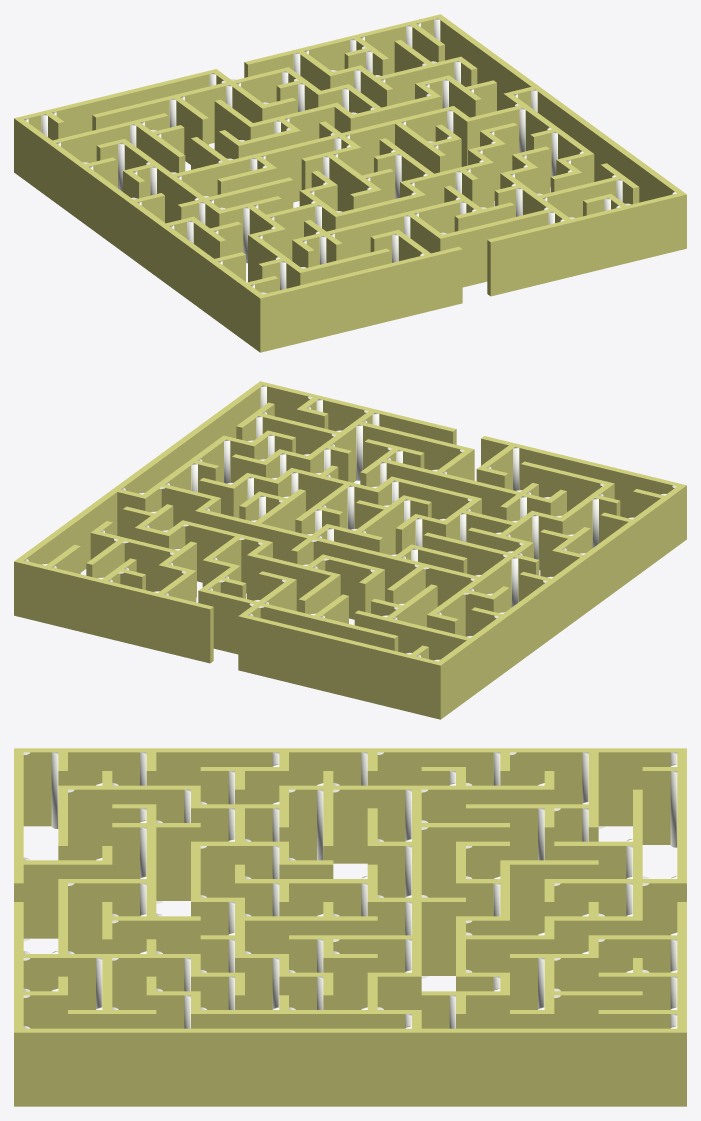
Rendered from maze.fbx.
3 renders of one model, top to bottom at view 1: azimuth 30°, elevation 25°; view 2: azimuth 150°, elevation 25°; view 3: azimuth 270°, elevation 25°, orthographic. The views are drawn at different scales.
Visible parts, largest first — view 1: Curve, Cube.002; view 2: Curve, Cube.002; view 3: Curve, Cube.002.
Part boxes in pixels (bbox=[...]): Curve: bbox=[14, 14, 686, 352]; Cube.002: bbox=[24, 18, 676, 294]; Curve: bbox=[14, 381, 686, 719]; Cube.002: bbox=[24, 385, 676, 661]; Curve: bbox=[14, 748, 686, 1106]; Cube.002: bbox=[23, 752, 677, 1028].
Bounding box in the file's own units: 825 × 100 × 825.
